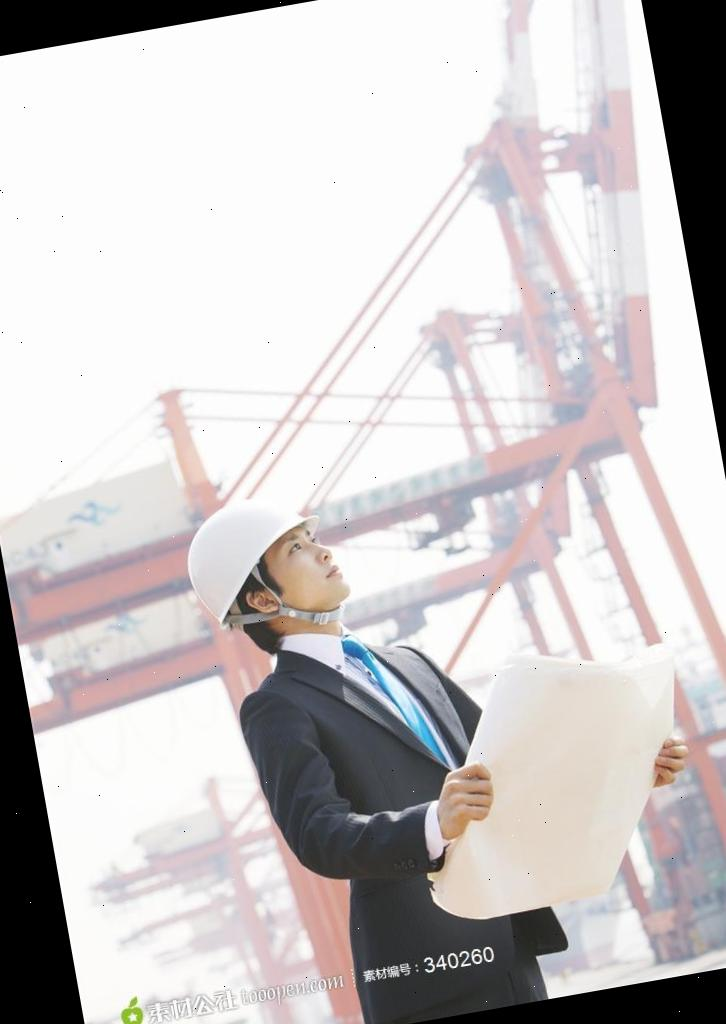helmet: (173, 488, 352, 634)
no_wear: (241, 632, 486, 872)
